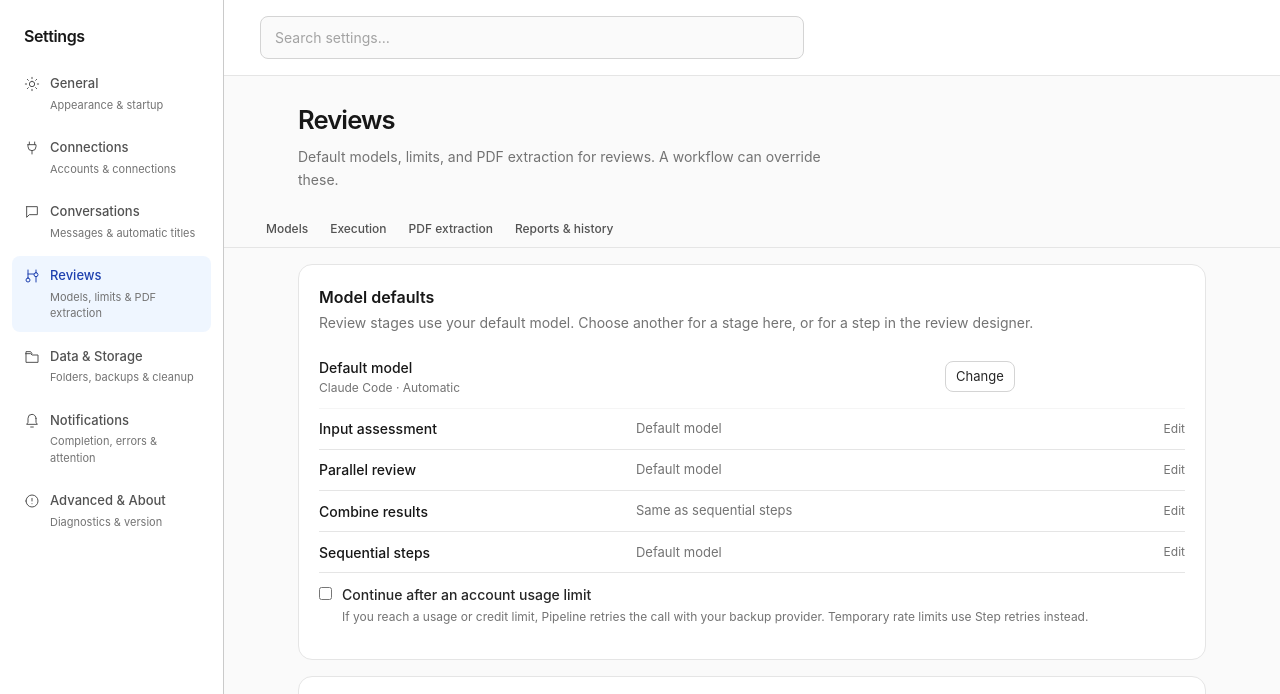
it: SettingsPage history › does not ask for destructive confirmation when the preview is empty
Click the button "Data & Storage".
click(112, 366)  # box [12,336,211,396]
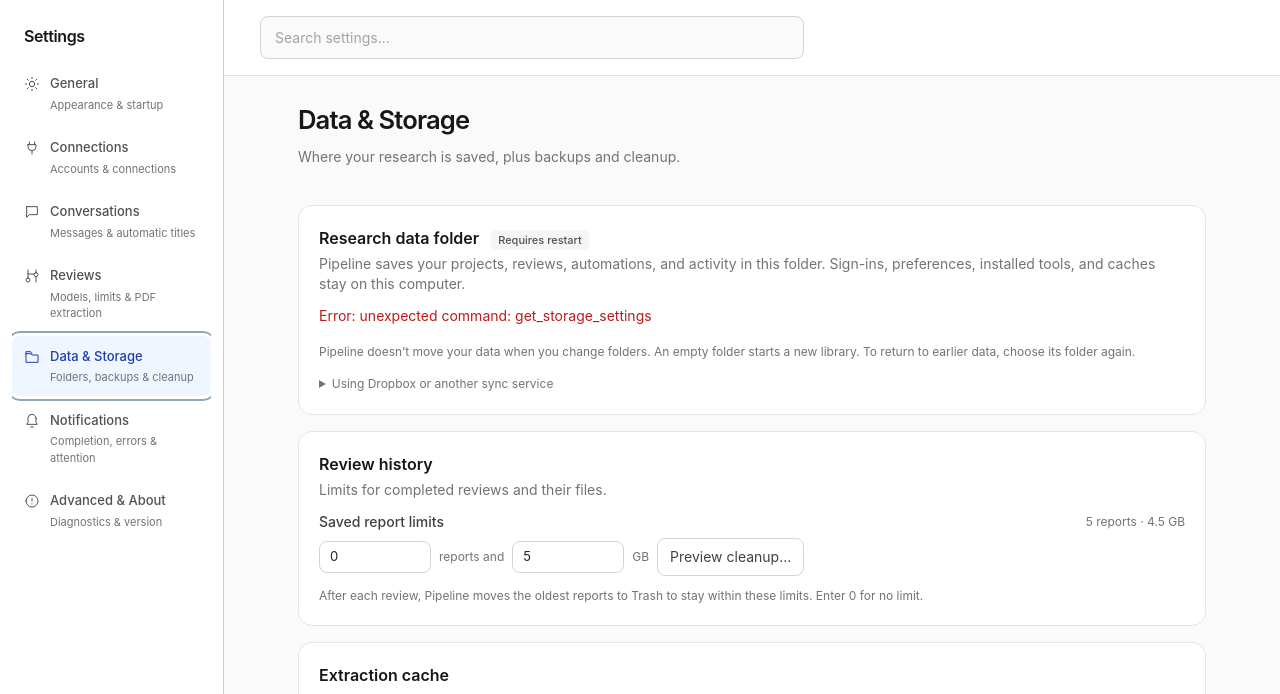
Click the button "Preview cleanup…".
click(731, 557)  # box [657,538,804,576]
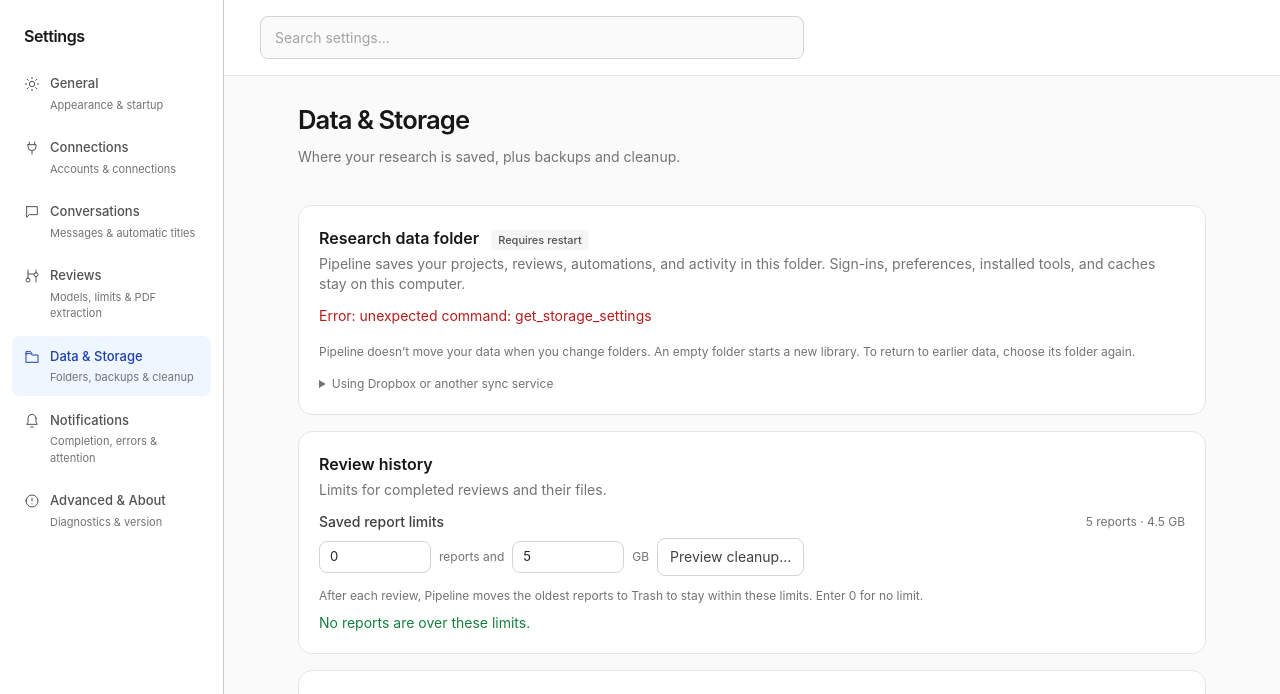
Result: the message "No reports are over these limits." is shown at [319,614,530,631]
